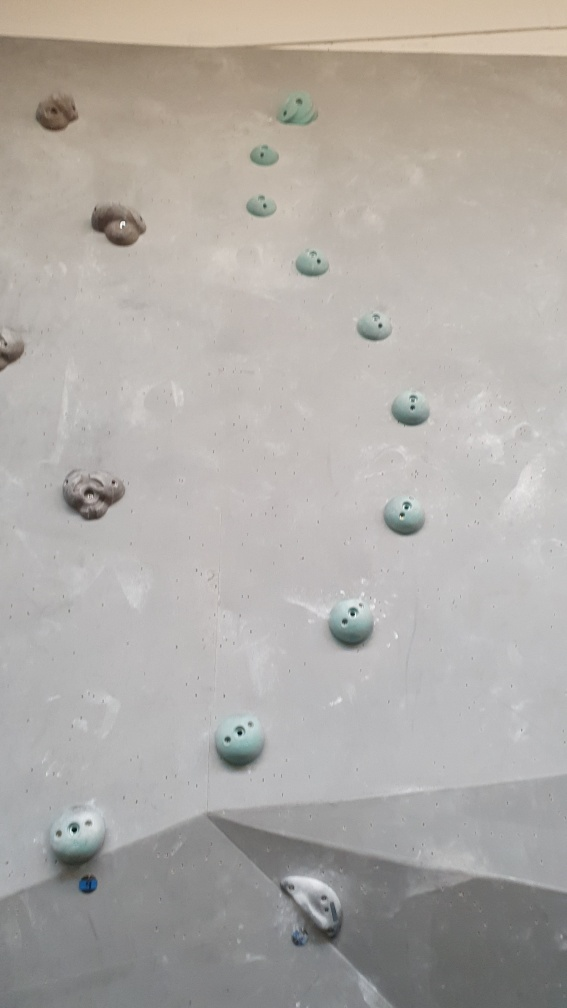Hand Start: (75, 870, 103, 898)
Jug: (63, 463, 129, 525), (90, 198, 151, 249)
Sloper: (44, 804, 113, 865), (209, 709, 276, 771), (381, 492, 429, 543), (330, 598, 377, 650), (388, 387, 437, 427), (353, 304, 394, 343), (292, 244, 333, 278), (242, 189, 280, 219), (245, 139, 283, 169)
